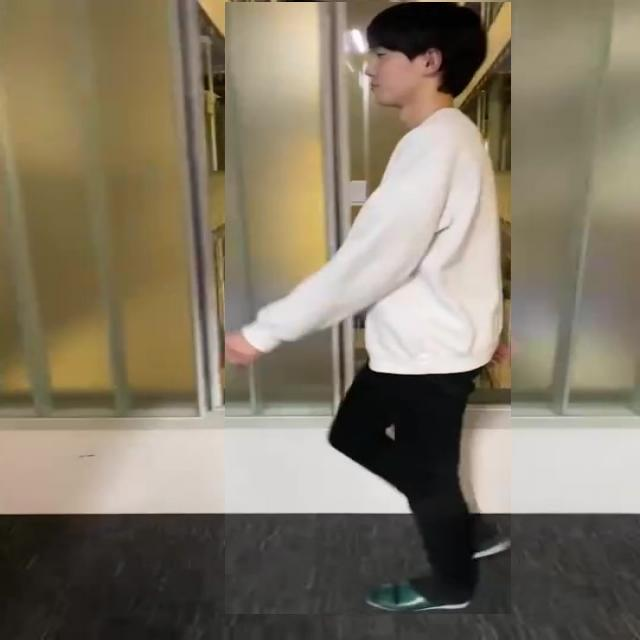direk: (225, 2, 511, 614)
